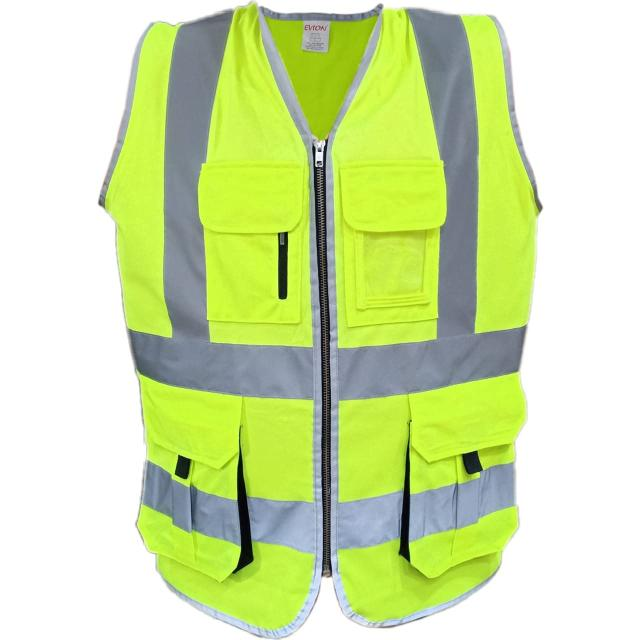safety_helmet: (105, 10, 540, 622)
